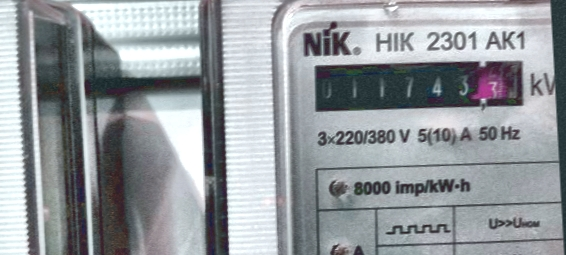0: (317, 70, 333, 98)
1: (344, 69, 360, 98), (372, 69, 387, 97)
3: (453, 68, 469, 96), (483, 76, 499, 98)
4: (427, 70, 443, 96)
7: (399, 70, 415, 96)
screen: (303, 46, 533, 122)
